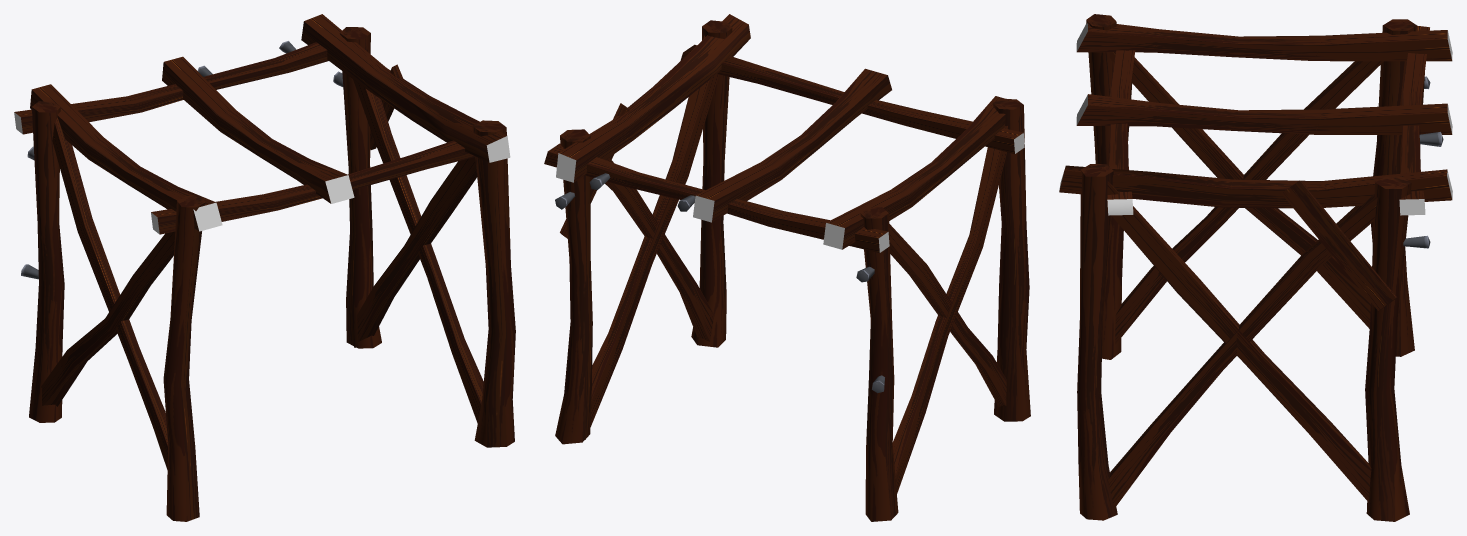
File: SM_PROP_market_v01_02.fbx
3 renders of one model, left to right at view 1: azimuth 30°, elevation 25°; view 2: azimuth 150°, elevation 25°; view 3: azimuth 270°, elevation 25°, orthographic. The views are drawn at different scales.
Parts seen in each view (by area): view 1: SM_PROP_market_v01_02; view 2: SM_PROP_market_v01_02; view 3: SM_PROP_market_v01_02.
Boxes of the visible parts, box(x1,y1,x2,y2) form: SM_PROP_market_v01_02: box(14, 14, 515, 521); SM_PROP_market_v01_02: box(544, 14, 1030, 521); SM_PROP_market_v01_02: box(1059, 14, 1452, 521).
Bounding box in the file's own units: 391 × 347 × 362.
